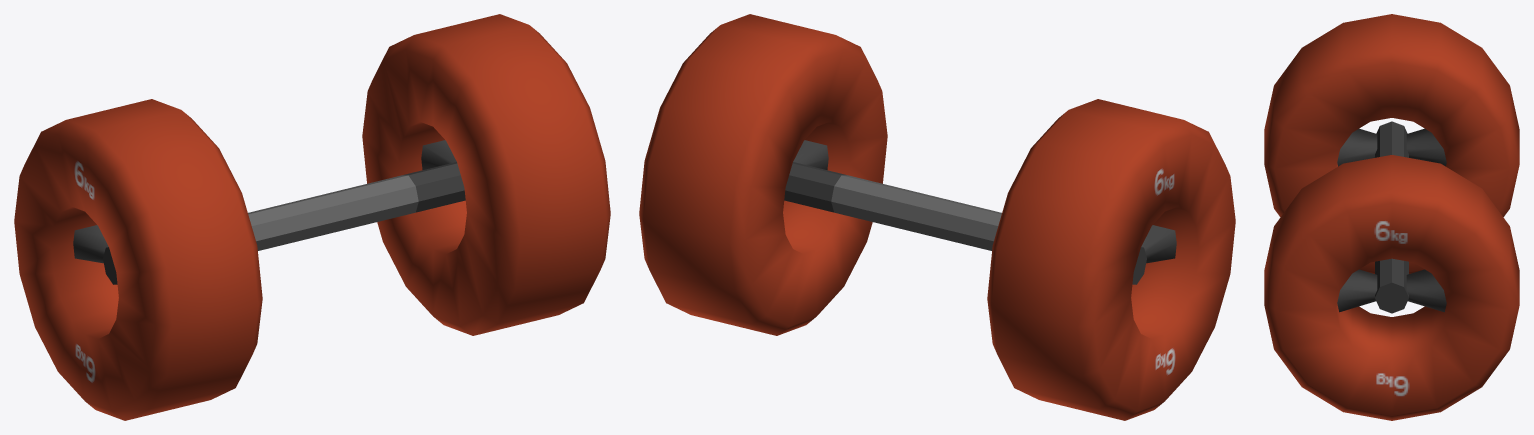
File: dumbbells_1.glb
3 renders of one model, left to right at view 1: azimuth 30°, elevation 25°; view 2: azimuth 150°, elevation 25°; view 3: azimuth 270°, elevation 25°, orthographic. The views are drawn at different scales.
Visible parts, largest first — view 1: Dumbbells_2; view 2: Dumbbells_2; view 3: Dumbbells_2.
Boxes of the visible parts, left/top/right/bottom form: Dumbbells_2: left=14, top=14, right=610, bottom=420; Dumbbells_2: left=639, top=14, right=1235, bottom=420; Dumbbells_2: left=1264, top=14, right=1519, bottom=420.
Bounding box in the file's own units: 0.3994 × 0.2342 × 0.2342.
Materials: 1 (1 with a texture image).
